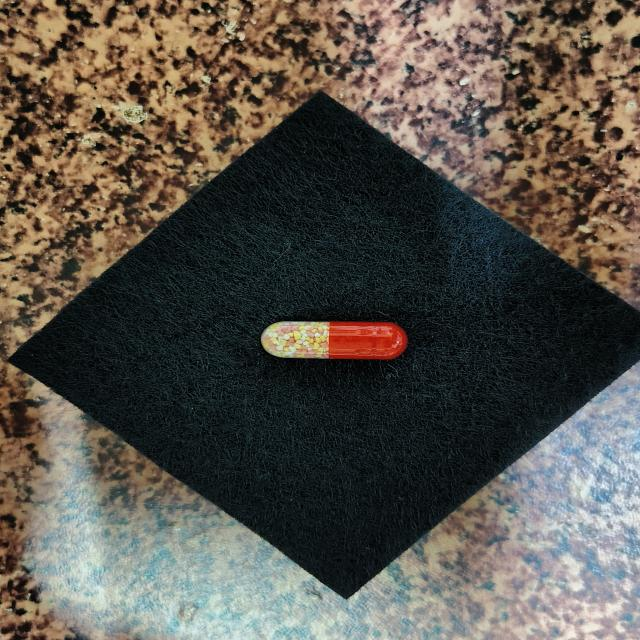Intact Capsule: (261, 321, 408, 359)
